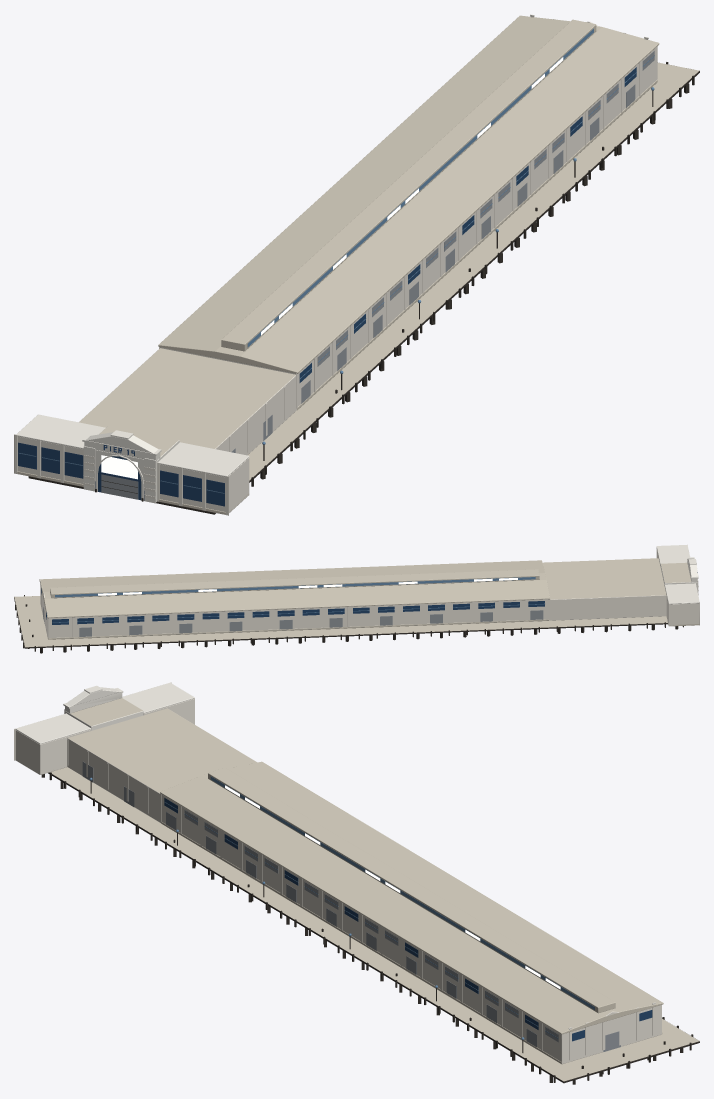
The model's file is pier-19.mid.glb.
3 views of the same model, one above another, from view 1: azimuth 30°, elevation 25°; view 2: azimuth 150°, elevation 25°; view 3: azimuth 270°, elevation 25° (orthographic). The views are drawn at different scales.
Visible parts, largest first — view 1: grp_Toy_stone, grp_Toy_cream_Toy_stone, deck, grp_Toy_white, grp_Toy_steel, grp_Toy_glass, grp_Toy_cream, grp_Toy_ink, grp_Toy_glassl, pavilion; view 2: grp_Toy_stone, grp_Toy_cream_Toy_stone, deck, grp_Toy_glass, grp_Toy_cream, grp_Toy_glassl, grp_Toy_white, grp_Toy_steel, grp_Toy_ink, pavilion, grp_Toy_glass_Glow; view 3: grp_Toy_stone, grp_Toy_cream_Toy_stone, deck, grp_Toy_steel, grp_Toy_white, grp_Toy_cream, grp_Toy_ink, grp_Toy_glassl, pavilion, grp_Toy_glass.
Part boxes in pixels (bbox=[...]): grp_Toy_stone: bbox=[17, 15, 659, 514]; grp_Toy_cream_Toy_stone: bbox=[17, 46, 657, 512]; deck: bbox=[28, 62, 699, 514]; grp_Toy_white: bbox=[16, 14, 648, 503]; grp_Toy_steel: bbox=[101, 51, 654, 499]; grp_Toy_glass: bbox=[18, 67, 636, 505]; grp_Toy_cream: bbox=[14, 16, 648, 515]; grp_Toy_ink: bbox=[95, 62, 694, 501]; grp_Toy_glassl: bbox=[19, 28, 654, 493]; pavilion: bbox=[95, 426, 179, 502]; grp_Toy_stone: bbox=[39, 560, 699, 639]; grp_Toy_cream_Toy_stone: bbox=[41, 548, 699, 639]; deck: bbox=[14, 596, 667, 648]; grp_Toy_glass: bbox=[41, 588, 544, 624]; grp_Toy_cream: bbox=[40, 544, 699, 637]; grp_Toy_glassl: bbox=[52, 577, 544, 622]; grp_Toy_white: bbox=[40, 545, 699, 612]; grp_Toy_steel: bbox=[43, 607, 543, 638]; grp_Toy_ink: bbox=[15, 595, 683, 653]; pavilion: bbox=[660, 562, 697, 590]; grp_Toy_glass_Glow: bbox=[98, 578, 517, 595]; grp_Toy_stone: bbox=[32, 761, 663, 1063]; grp_Toy_cream_Toy_stone: bbox=[15, 698, 661, 1064]; deck: bbox=[48, 767, 699, 1083]; grp_Toy_steel: bbox=[82, 762, 620, 1051]; grp_Toy_white: bbox=[15, 682, 655, 1028]; grp_Toy_cream: bbox=[14, 682, 655, 1060]; grp_Toy_ink: bbox=[41, 772, 693, 1084]; grp_Toy_glassl: bbox=[89, 776, 594, 1039]; pavilion: bbox=[65, 698, 143, 730]; grp_Toy_glass: bbox=[164, 798, 652, 1041].
Size of the model in its own units: 243 by 17.8 by 192.
